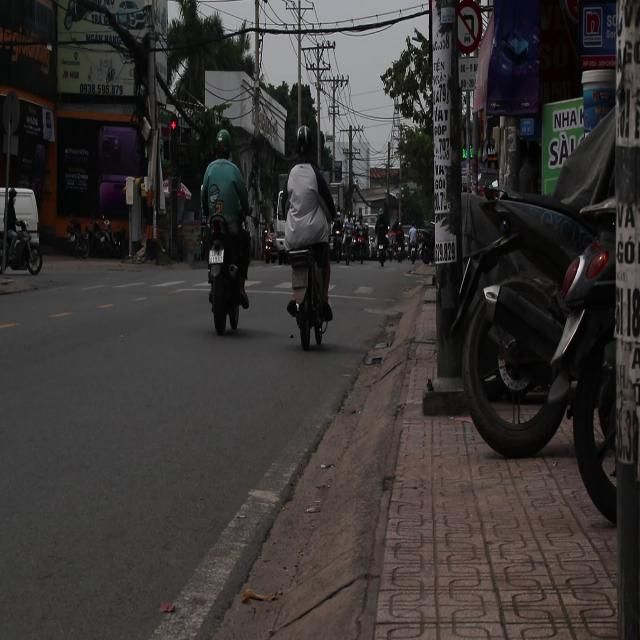motorbike: (196, 208, 252, 359), (278, 196, 325, 354), (0, 200, 50, 285), (372, 218, 392, 278), (355, 213, 368, 287), (403, 221, 421, 274), (332, 208, 342, 272), (338, 218, 350, 269)
